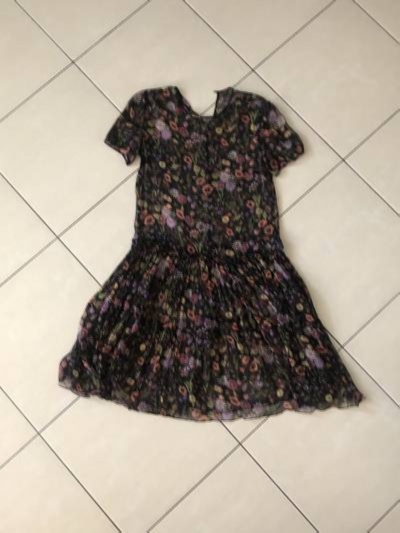Dress: (52, 57, 365, 433)
